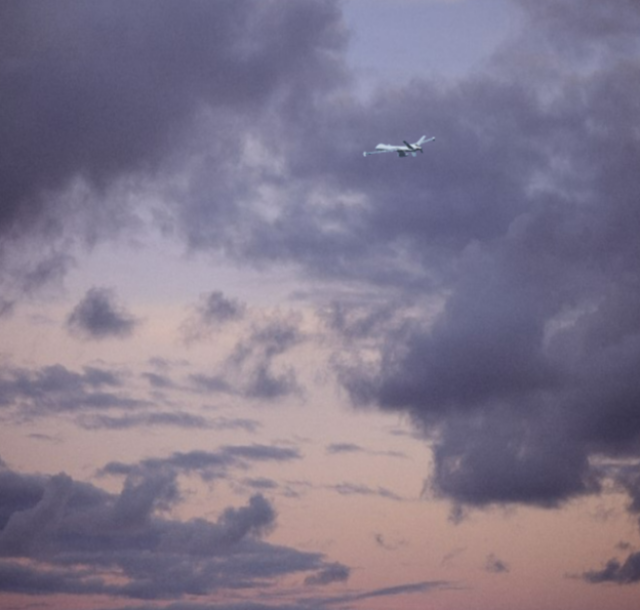military drone: (362, 134, 435, 157)
